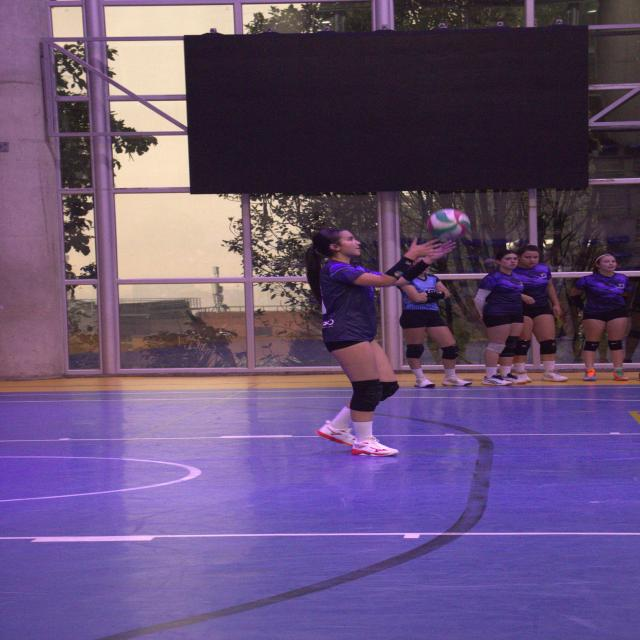volleyball: (426, 207, 471, 236)
